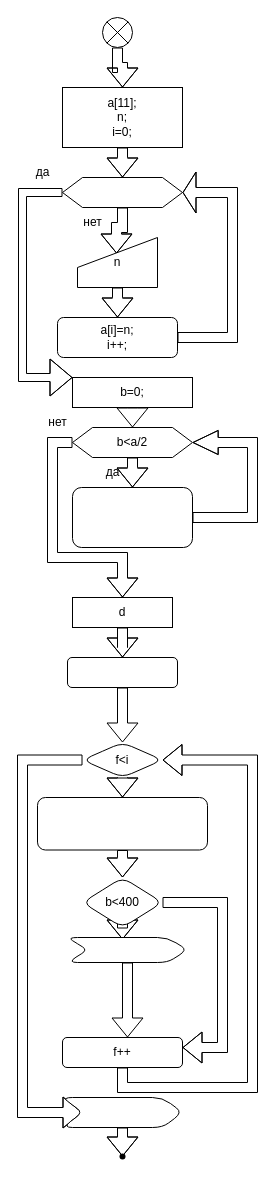
Some shapes in this 275 by 1194 pixel diagram are drawn without their labels. Here are the shapes that lost their labels. From the top down, the box of each, then its label:
(62, 176, 182, 208): i=11;
(72, 486, 192, 548): c=a[b]; a[b]=a[i-b] a[i-b]=c b++
(66, 656, 178, 688): f=0
(36, 796, 208, 850): b=sqrt ( fabs (a[f])) + 5.0 * pow (a[f], 3.0)
(66, 936, 188, 962): Error
